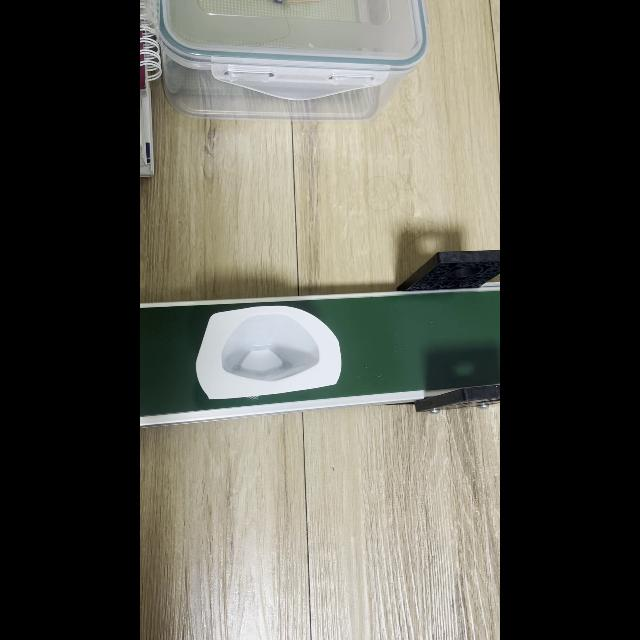clean: (195, 304, 341, 400)
